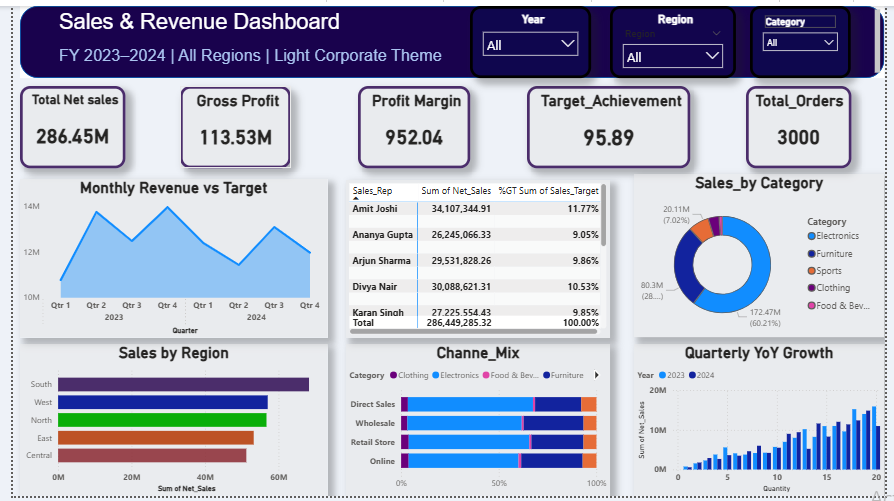

What the dashboard file says about the page in this screenshot:
{"tool":"powerbi","page":{"name":"Page 1","canvas":[1280,720],"ordinal":0},"visuals":[{"type":"shape","box":[10.1,0,1269.9,105.8],"z":0},{"type":"textbox","box":[63.8,0,1216.2,105.8],"z":1000},{"type":"card","title":"Total Net sales","fields":{"Values":["Sum(Monthly_Summary.Total_Net_Sales)"]},"box":[10.1,117.6,154.5,120.9],"z":2000},{"type":"card","title":"Gross Profit","fields":{"Values":["Sum(Monthly_Summary.Total_Gross_Profit)"]},"box":[245.2,117.6,162.9,120.9],"z":3000},{"type":"card","title":"Profit Margin","fields":{"Values":["Sum(Monthly_Summary.Profit_Margin_%)"]},"box":[507.3,117.6,164.6,120.9],"z":4000},{"type":"card","title":"Target_Achievement","fields":{"Values":["Avg(Monthly_Summary.Target_Achievement_%)"]},"box":[755.9,117.6,240.2,120.9],"z":5000},{"type":"card","title":"Total_Orders","fields":{"Values":["Sum(Monthly_Summary.Orders)"]},"box":[1076.7,117.6,154.5,120.9],"z":6000},{"type":"areaChart","title":"Monthly Revenue vs Target","fields":{"Category":["Monthly_Summary.Month.Variation.Date Hierarchy.Year","Monthly_Summary.Month.Variation.Date Hierarchy.Quarter","Monthly_Summary.Month.Variation.Date Hierarchy.Month","Monthly_Summary.Month.Variation.Date Hierarchy.Day","Monthly_Summary.Total_Net_Sales"],"Y":["Avg(Monthly_Summary.Total_Target)"]},"box":[10.1,253.6,451.9,233.5],"z":7000},{"type":"donutChart","title":"Sales_by Category","fields":{"Category":["Sales_Data.Category"],"Y":["Sum(Sales_Data.Net_Sales)"]},"box":[912.1,246.9,367.9,240.2],"z":8000},{"type":"barChart","title":"Sales by Region","fields":{"Y":["Sum(Sales_Data.Net_Sales)"],"Category":["Sales_Data.Region"]},"box":[10,497,452,223],"z":9000},{"type":"pivotTable","fields":{"Rows":["Sales_Data.Sales_Rep"],"Values":["Sum(Sales_Data.Net_Sales)","Sum(Sales_Data.Sales_Target)"]},"box":[488.8,255.3,388,231.8],"z":10000},{"type":"hundredPercentStackedBarChart","title":"Channe_Mix","fields":{"Y":["Sum(Sales_Data.Net_Sales)"],"Category":["Sales_Data.Channel"],"Series":["Sales_Data.Category"]},"box":[489,497,388,223],"z":11000},{"type":"lineClusteredColumnComboChart","title":"Quarterly YoY Growth","fields":{"Category":["Sales_Data.Quantity"],"Y":["Sum(Sales_Data.Net_Sales)"],"Series":["Sales_Data.Year"]},"box":[912.1,497.2,367.9,223.4],"z":12000},{"type":"slicer","title":"Year","fields":{"Values":["Sales_Data.Year"]},"box":[671.9,0,178.1,105.8],"z":13000},{"type":"slicer","title":"Region","fields":{"Values":["Sales_Data.Region"]},"box":[876.9,0,184.8,105.8],"z":14000},{"type":"slicer","fields":{"Values":["Sales_Data.Category"]},"box":[1083.5,0,147.8,105.8],"z":15000}]}

Visuals, with their boxes in screenshot pixels (x1, y1, x2, y2), scaled from the page's 1280x720 canvas onto the 894x501 screenshot:
shape: 7, 0, 893, 74
textbox: 45, 0, 893, 74
"Total Net sales" card: 7, 82, 115, 166
"Gross Profit" card: 171, 82, 285, 166
"Profit Margin" card: 354, 82, 469, 166
"Target_Achievement" card: 528, 82, 696, 166
"Total_Orders" card: 752, 82, 860, 166
"Monthly Revenue vs Target" areaChart: 7, 176, 323, 339
"Sales_by Category" donutChart: 637, 172, 893, 339
"Sales by Region" barChart: 7, 346, 323, 500
pivotTable - Sales_Data.Sales_Rep x Sum(Sales_Data.Net_Sales): 341, 178, 612, 339
"Channe_Mix" hundredPercentStackedBarChart: 342, 346, 613, 500
"Quarterly YoY Growth" lineClusteredColumnComboChart: 637, 346, 893, 500
"Year" slicer: 469, 0, 594, 74
"Region" slicer: 612, 0, 742, 74
slicer - Sales_Data.Category: 757, 0, 860, 74
